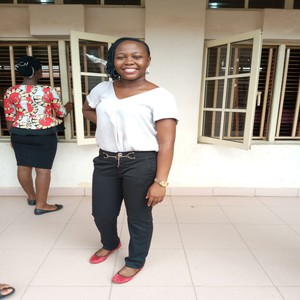Fulokoja_female_student: (90, 38, 149, 275), (11, 62, 60, 212)
